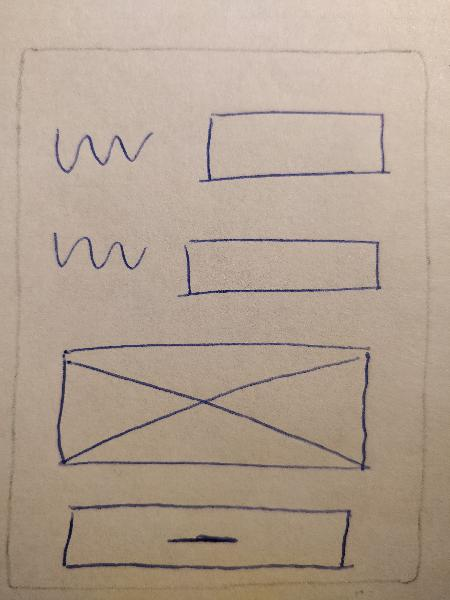button: (45, 497, 365, 576)
image: (41, 332, 391, 486)
text: (39, 114, 157, 179), (41, 222, 150, 284)
text_input: (187, 101, 401, 190), (166, 227, 389, 306)
